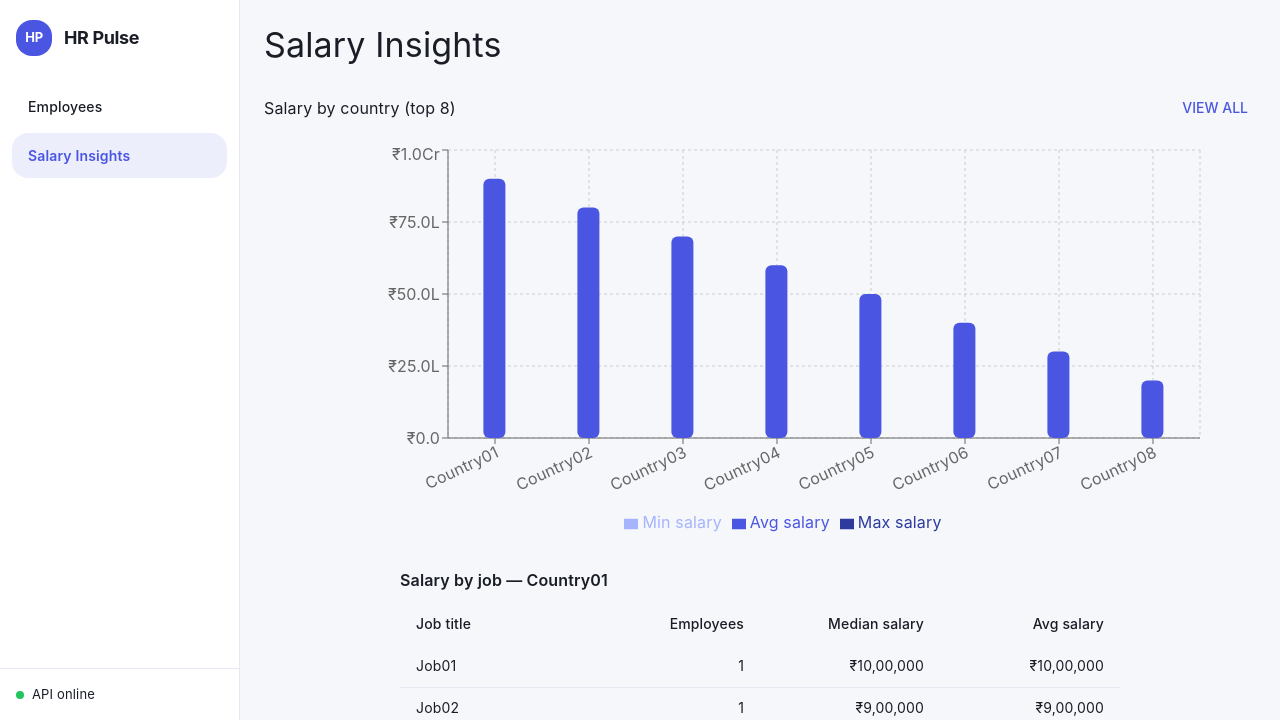
Test case: InsightsPage › navigates to paginated countries list when chart View all is clicked
Check: the element named "average salary by country" is shown, box [304,142,1216,542]
Click the button "View all". click: (1215, 108)
box: [1174,90,1256,126]
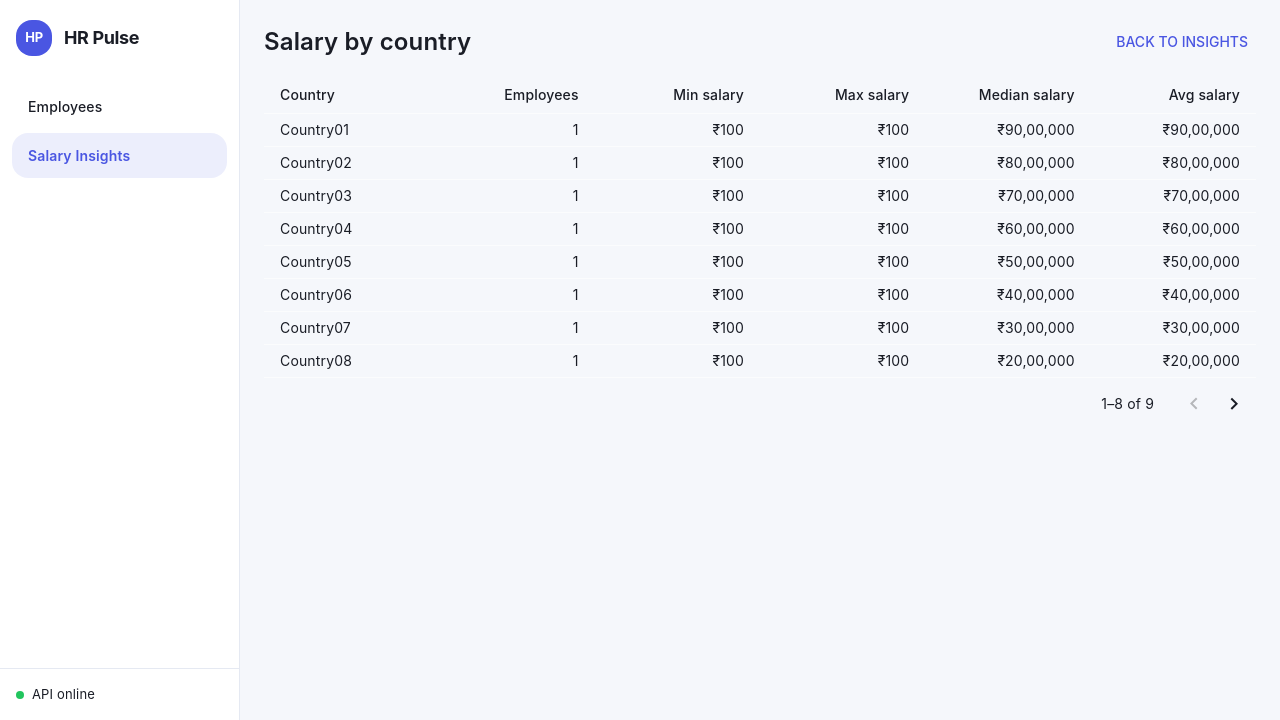
Check: the cell "Country01" is shown, box [264,113,429,146]
Check: the heading "Salary by country" is shown, box [264,26,471,58]
